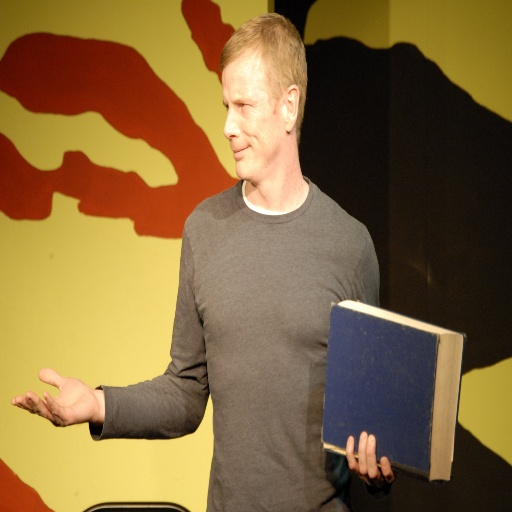hand: (27, 369, 94, 434), (344, 430, 397, 488)
